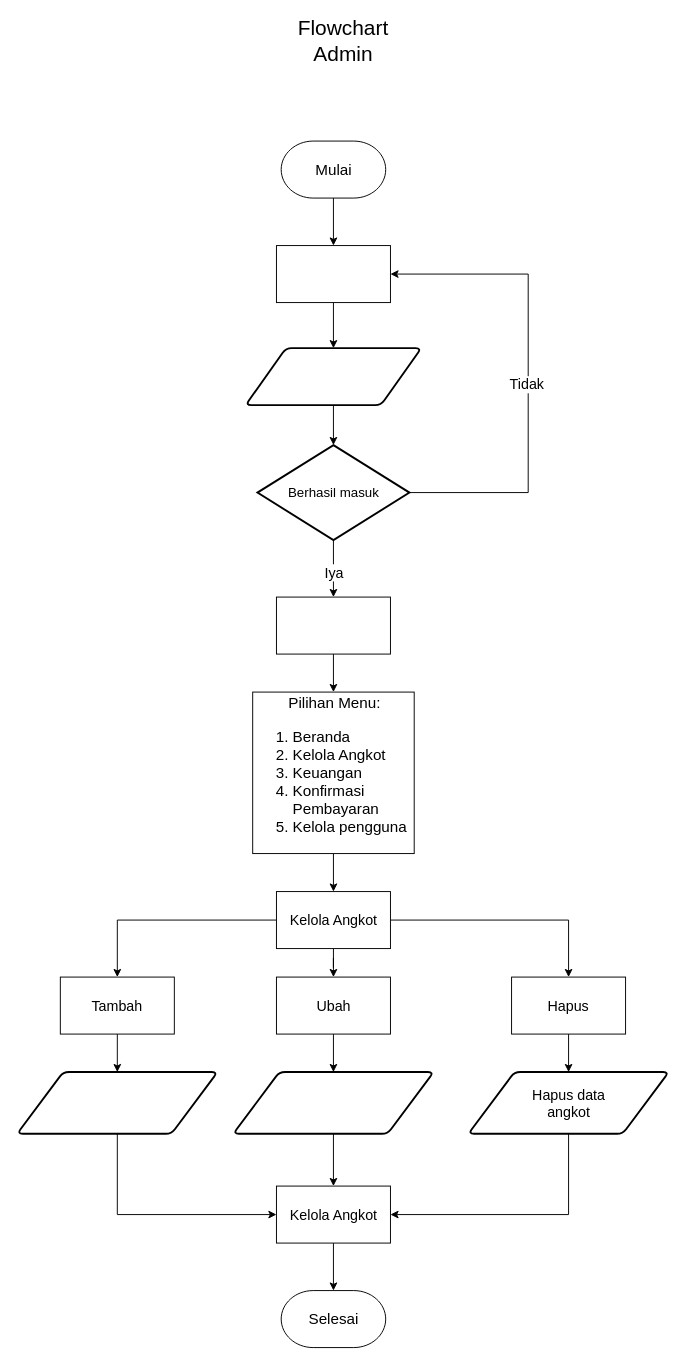
This 686x1364 diagram has some shape labels left out. The centre of each missing label's shape, as x and y in pixels:
Dashboard admin: the point at 333,625
Halaman masuk: the point at 333,274
Input email & password: the point at 333,376
Menambahkan data angkot: the point at 117,1102
Mengubah data angkot: the point at 333,1102
